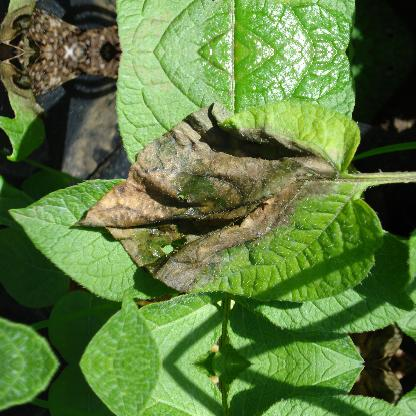Early-Blight: (81, 100, 377, 296), (0, 52, 128, 130), (0, 0, 128, 52)
